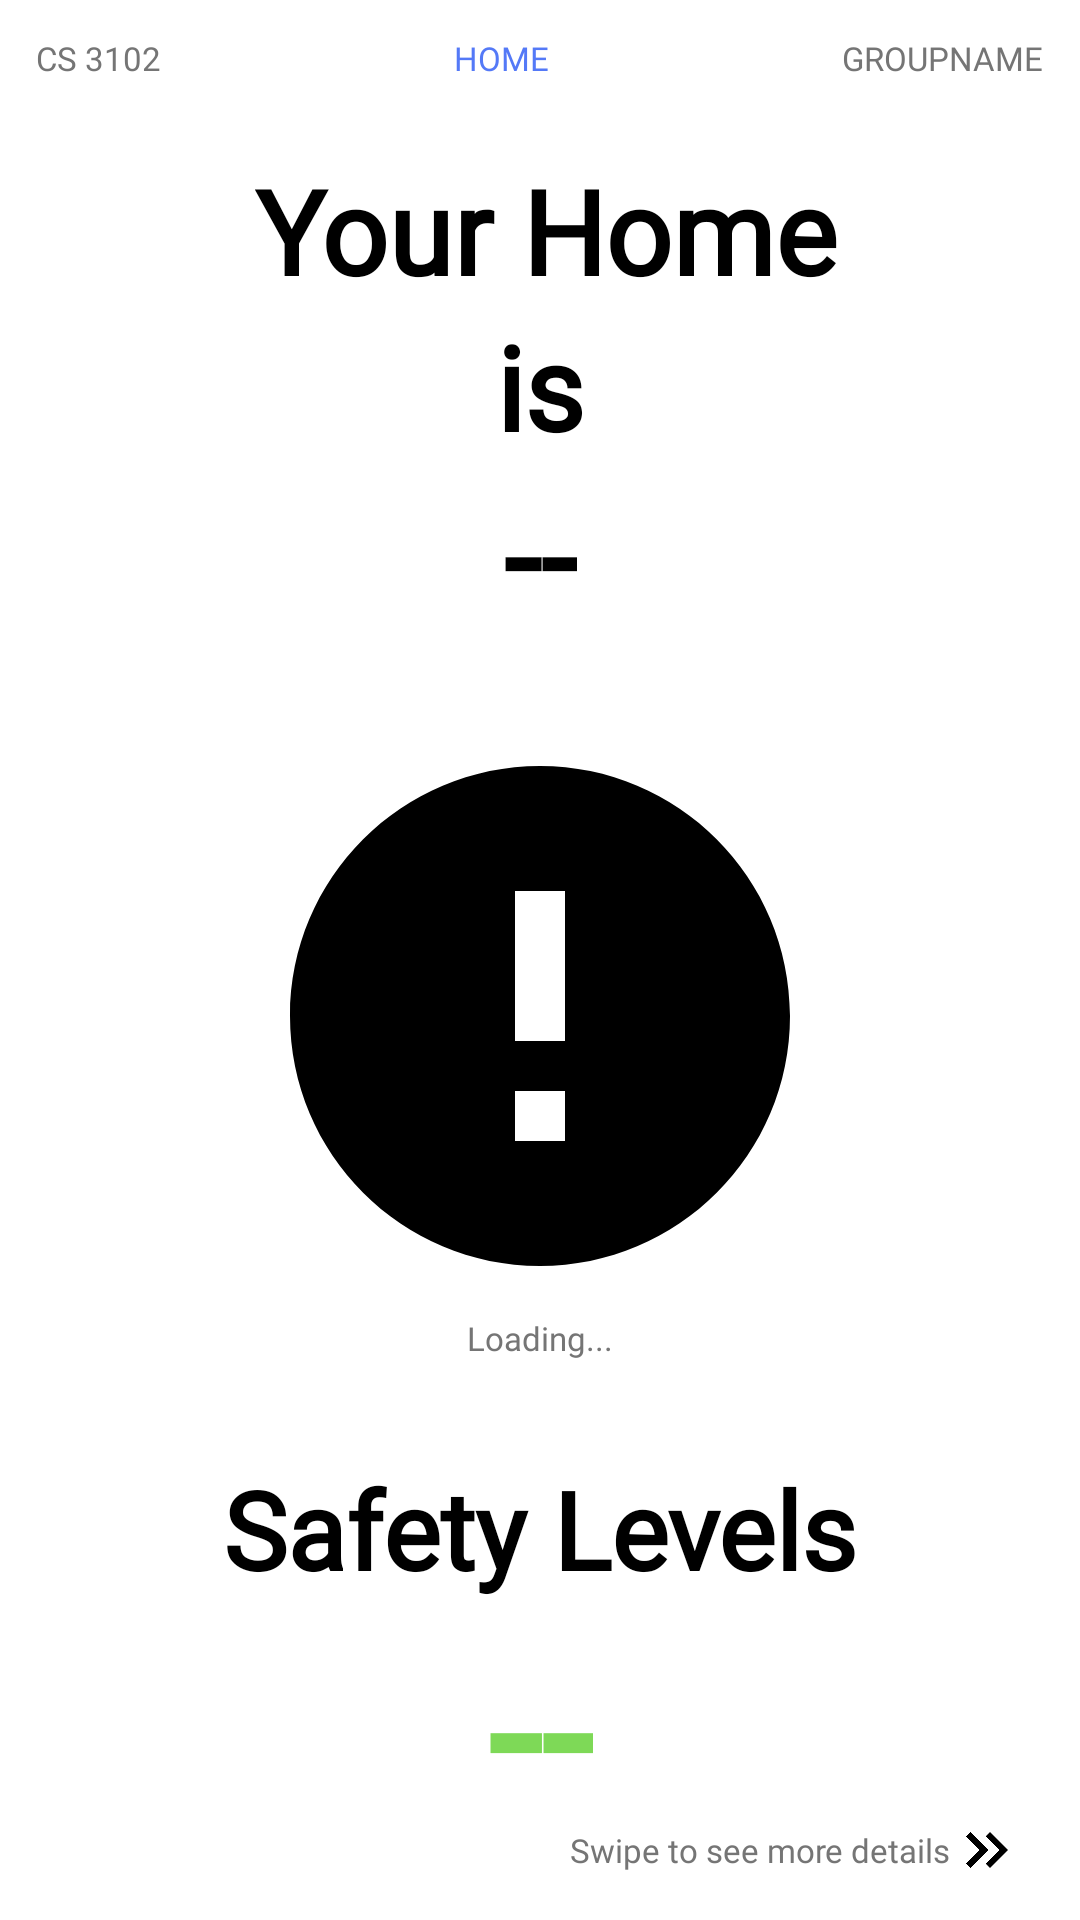

Locate icon controls on the screen. Image size 1080×1920, boxes as (x1, y1, x2, y2).
swipe right: (966, 1832, 1008, 1868)
